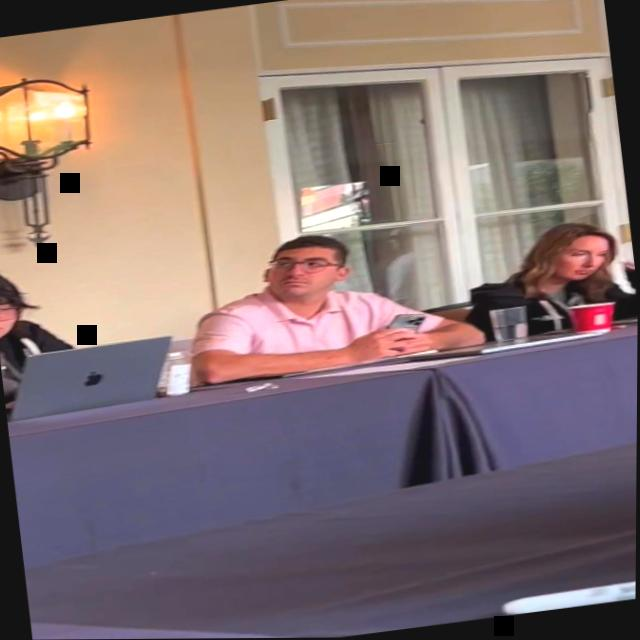NO-Mask: (261, 239, 350, 306), (550, 234, 618, 284), (0, 287, 21, 344)
